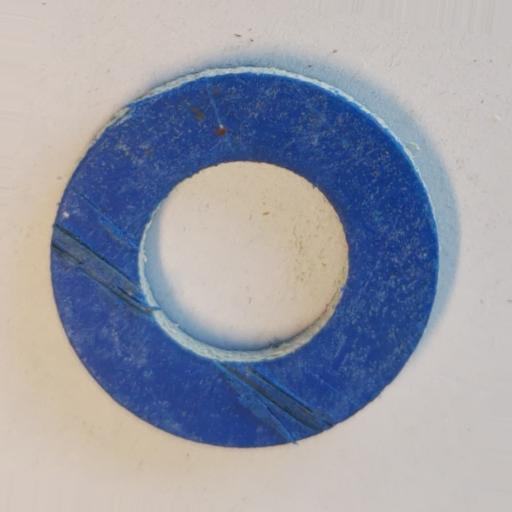defect: (51, 223, 159, 316), (214, 356, 332, 441)
